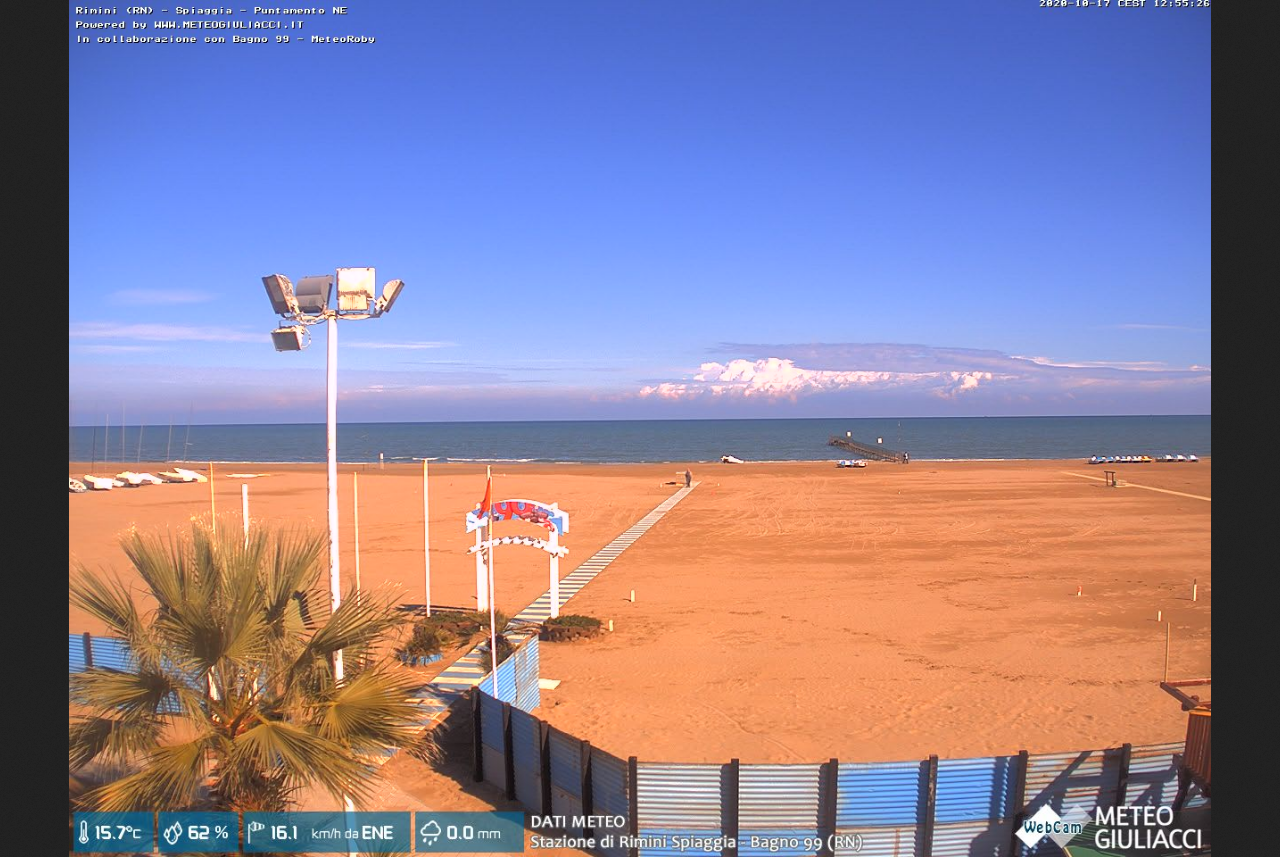no: (477, 472, 493, 525)
